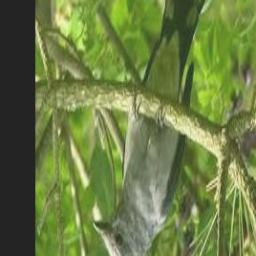Cuckoo: (93, 0, 205, 256)
